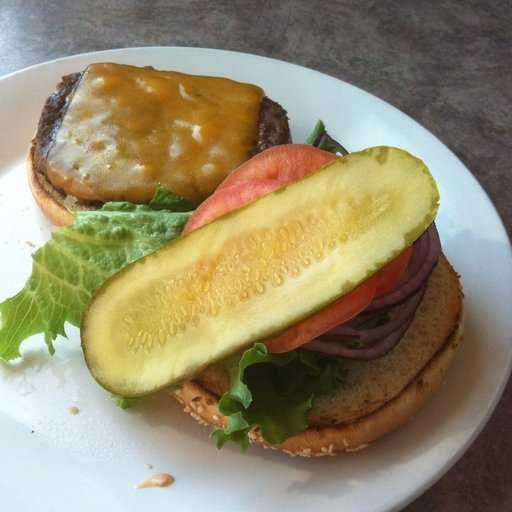hamburger: (26, 48, 480, 468)
